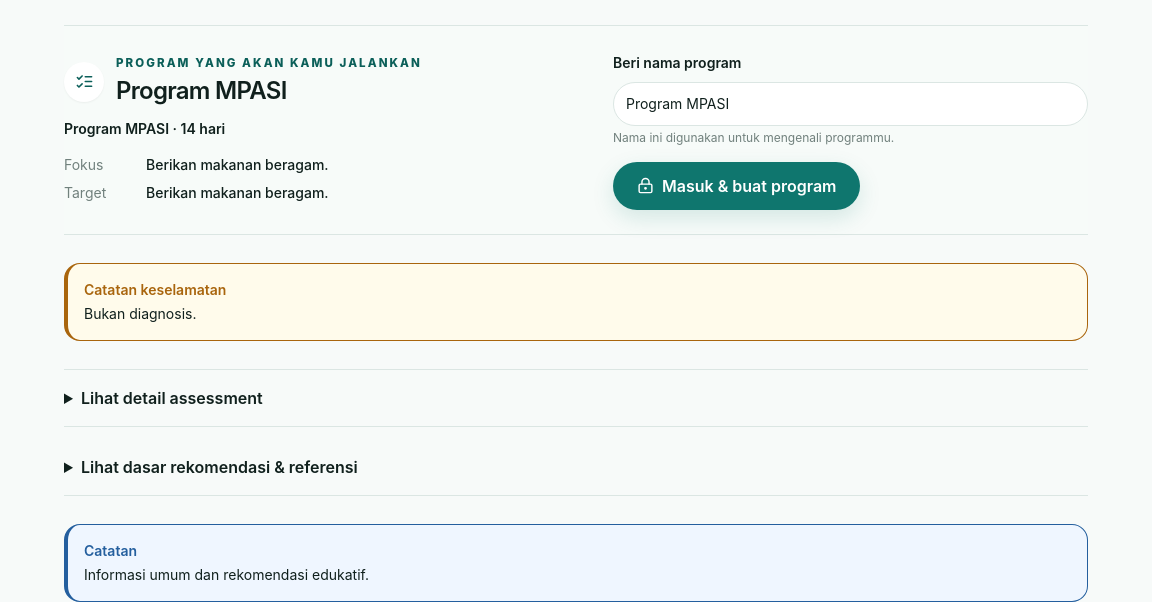
Scenario: SEHATIN final frontend journeys › renders the compact user-first nutrition result before program creation
This screenshot has width=1152, height=602.
(page scrolled)
Expected: the text "Program yang akan kamu jalankan" is shown, [116,57,422,70]
Expected: the text "Program MPASI · 14 hari" is shown, [64,120,225,136]
Step 1. Click the heading "Lihat dasar rekomendasi & referensi" → (219, 467), box [81,457,358,477]
(page scrolled)
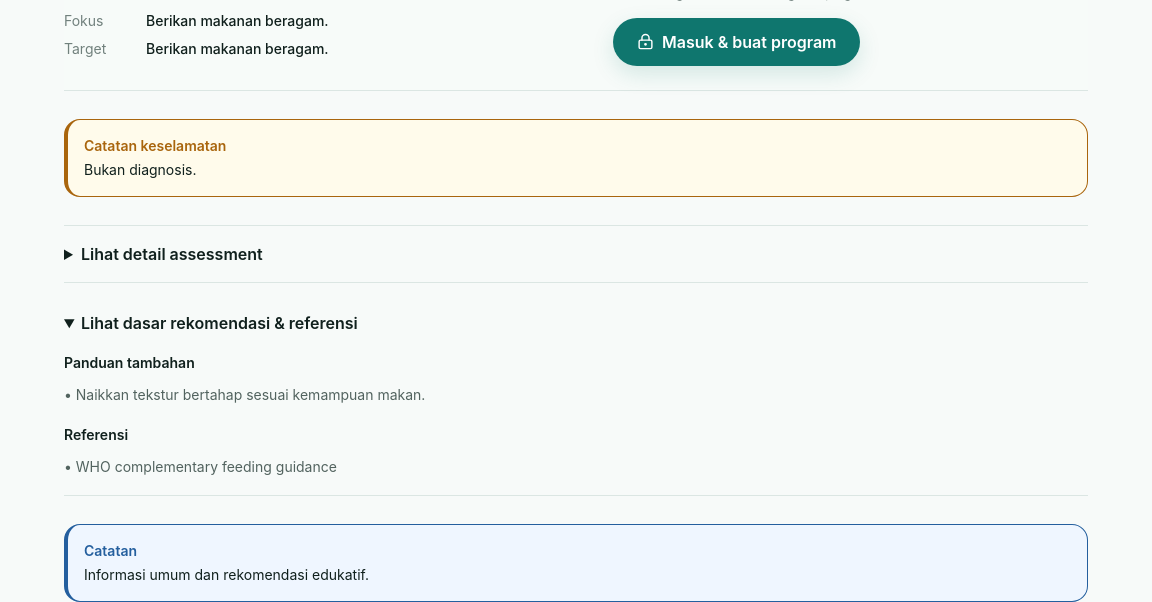
Result: the list item "• WHO complementary feeding guidance" is shown at [64,458,337,475]
